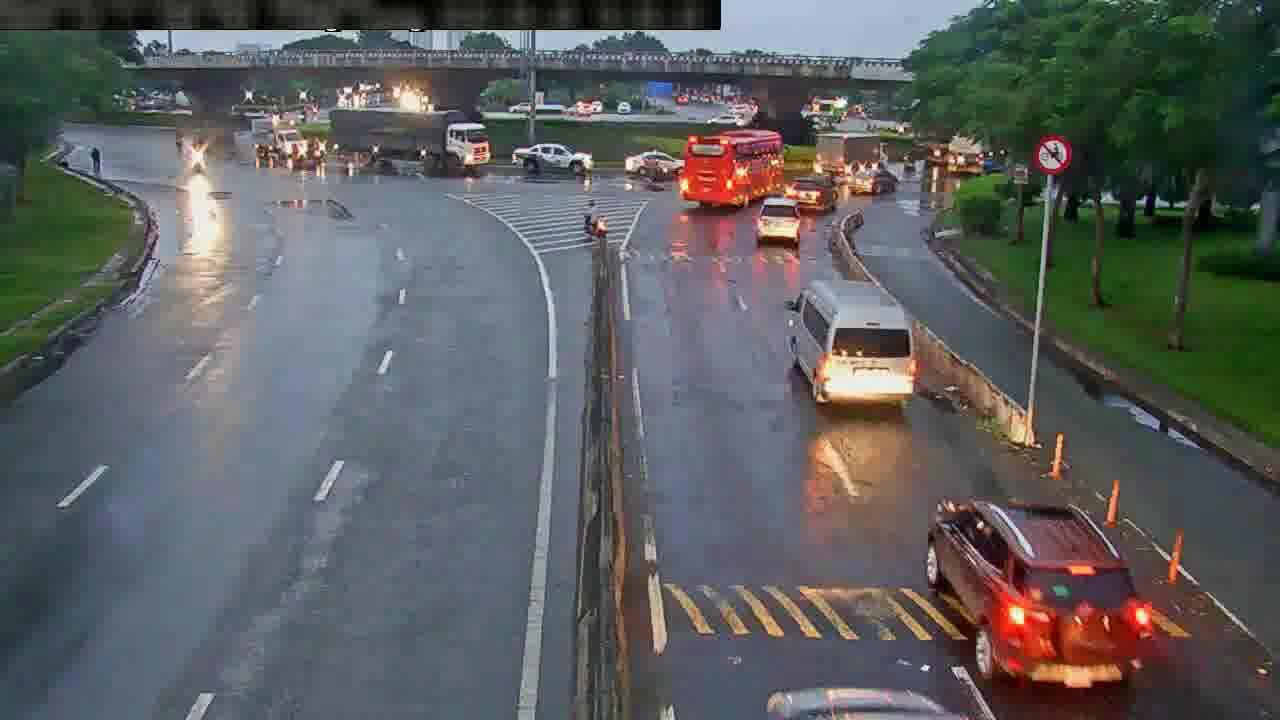14: (786, 274, 912, 406), (674, 134, 791, 199)
8: (321, 104, 492, 183), (814, 125, 892, 183)
container: (926, 496, 1148, 685), (508, 138, 603, 181), (751, 194, 800, 244), (795, 171, 841, 215), (848, 174, 898, 195)
motorbike: (576, 194, 612, 244), (182, 143, 207, 173)
